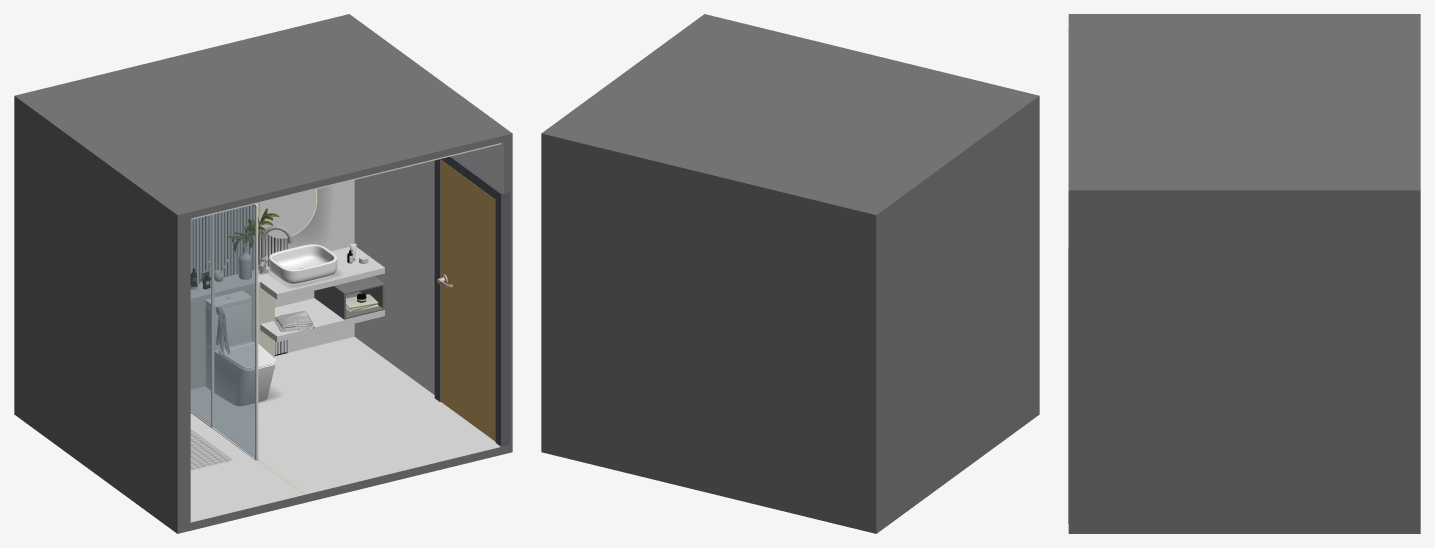
3 renders of one model, left to right at view 1: azimuth 30°, elevation 25°; view 2: azimuth 150°, elevation 25°; view 3: azimuth 270°, elevation 25°, orthographic. The views are drawn at different scales.
Parts seen in each view (by area): view 1: ignore_whole_frame, floor_right, wall_right, ignore_bath_partition_glass.001, ignore_bath_partition_glass, door, counter_top, door_frame, wall_left, toilet_2_base, wall_back, toilet_back_wall (+9 smaller); view 2: ignore_whole_frame; view 3: ignore_whole_frame.
Boxes of the visible parts, box(x1,y1,x2,y2) form: ignore_whole_frame: box(14, 14, 512, 533); floor_right: box(190, 336, 500, 494); wall_right: box(354, 142, 503, 394); ignore_bath_partition_glass.001: box(191, 205, 254, 457); ignore_bath_partition_glass: box(191, 205, 254, 456); door: box(440, 160, 495, 441); counter_top: box(190, 203, 384, 354); door_frame: box(434, 156, 510, 446); wall_left: box(190, 219, 302, 522); toilet_2_base: box(205, 291, 275, 406); wall_back: box(286, 180, 354, 352); toilet_back_wall: box(190, 287, 305, 494); ignore_whole_frame: box(541, 14, 1039, 533); ignore_whole_frame: box(1068, 14, 1420, 533).
Size of the model in its own units: 2.88 by 2.62 by 2.43.
Materials: 44 (18 with a texture image).
